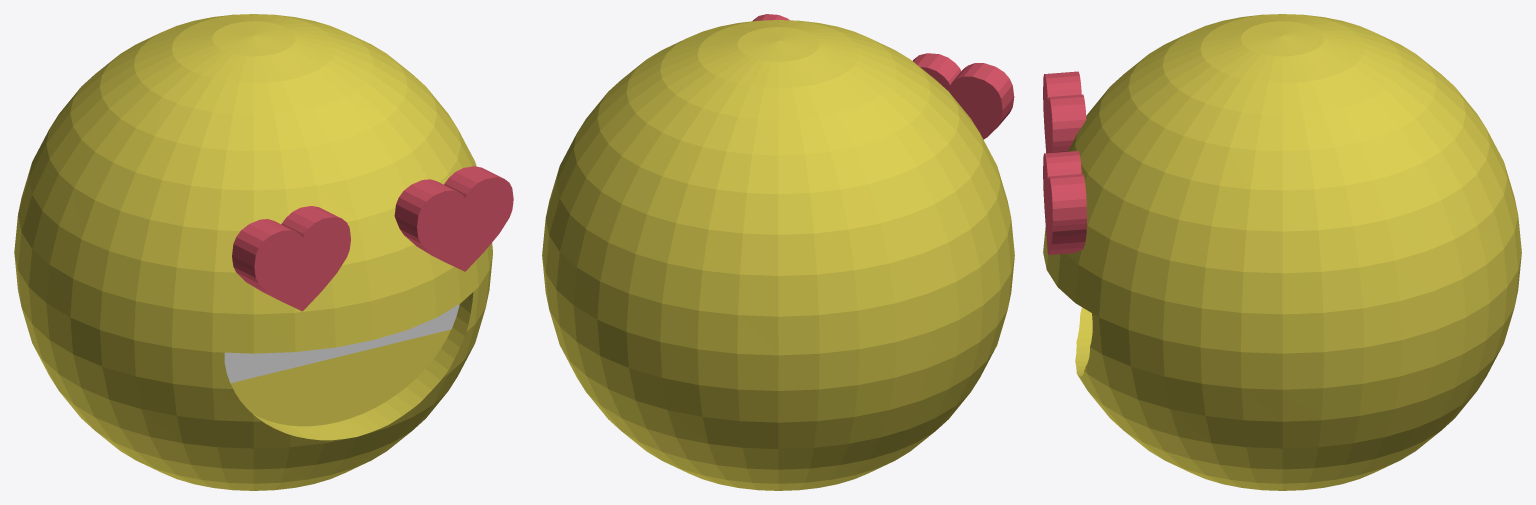
Rendered from heartEyesEmoji.glb.
3 renders of one model, left to right at view 1: azimuth 30°, elevation 25°; view 2: azimuth 150°, elevation 25°; view 3: azimuth 270°, elevation 25°, orthographic.
Visible parts, largest first — view 1: Mesh_Mesh_head_geo.001_lambert2SG.001; view 2: Mesh_Mesh_head_geo.001_lambert2SG.001; view 3: Mesh_Mesh_head_geo.001_lambert2SG.001.
Part boxes in pixels (x1,y1,x2,y2): Mesh_Mesh_head_geo.001_lambert2SG.001: [14, 14, 513, 490]; Mesh_Mesh_head_geo.001_lambert2SG.001: [542, 14, 1014, 490]; Mesh_Mesh_head_geo.001_lambert2SG.001: [1043, 14, 1521, 490].
Bounding box in the file's own units: 20 × 20 × 20.
